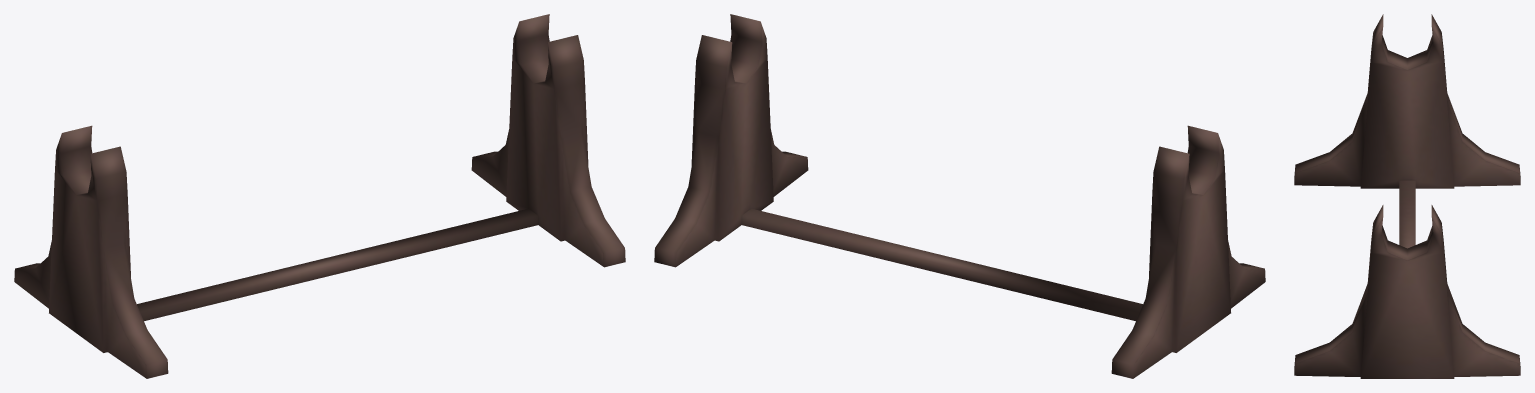
The model's file is Staff Stand.fbx.
The picture shows the model from 3 angles, left to right: view 1: azimuth 30°, elevation 25°; view 2: azimuth 150°, elevation 25°; view 3: azimuth 270°, elevation 25°; orthographic projection. The views are drawn at different scales.
Visible parts, largest first — view 1: Tabletop_StaffStand; view 2: Tabletop_StaffStand; view 3: Tabletop_StaffStand.
Boxes of the visible parts, x1,y1,x2,y2 form: Tabletop_StaffStand: (14, 14, 625, 378); Tabletop_StaffStand: (654, 14, 1265, 378); Tabletop_StaffStand: (1294, 14, 1520, 378).
Bounding box in the file's own units: 0.8925 × 0.3319 × 0.4201.
